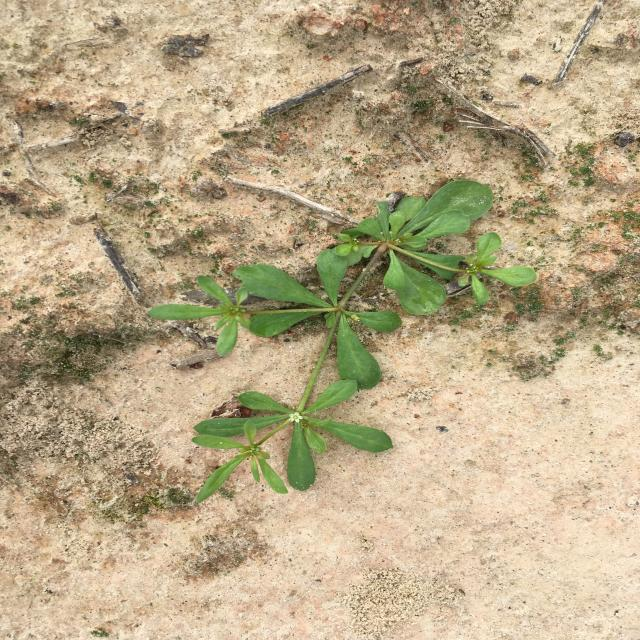Carpetweed: (147, 180, 538, 503)
